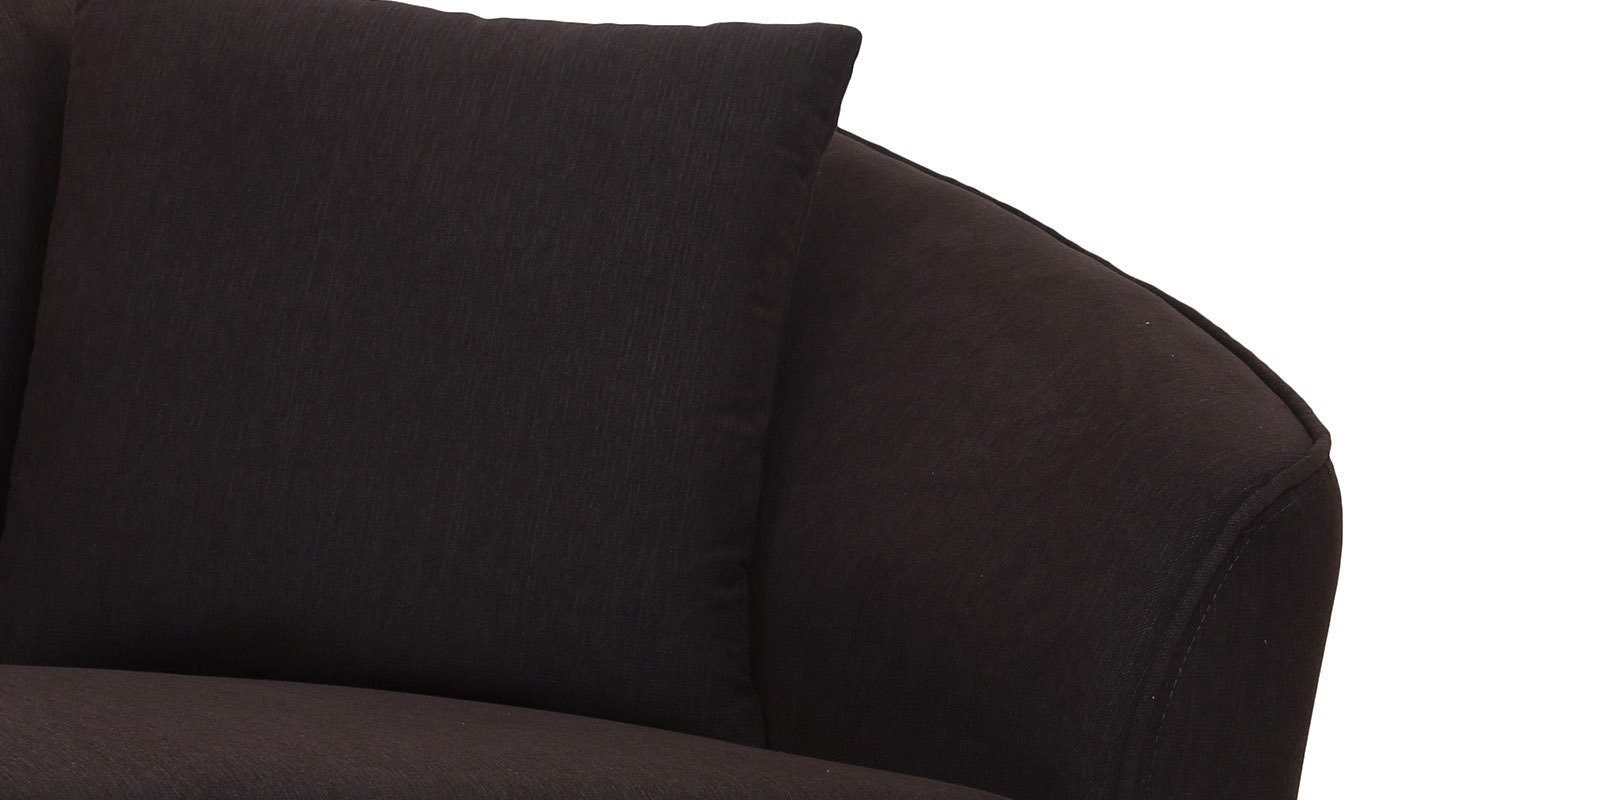Mamore Three Seater Sofa in Chestnut Brown Color by CasaCraft: (1, 1, 1344, 798)
